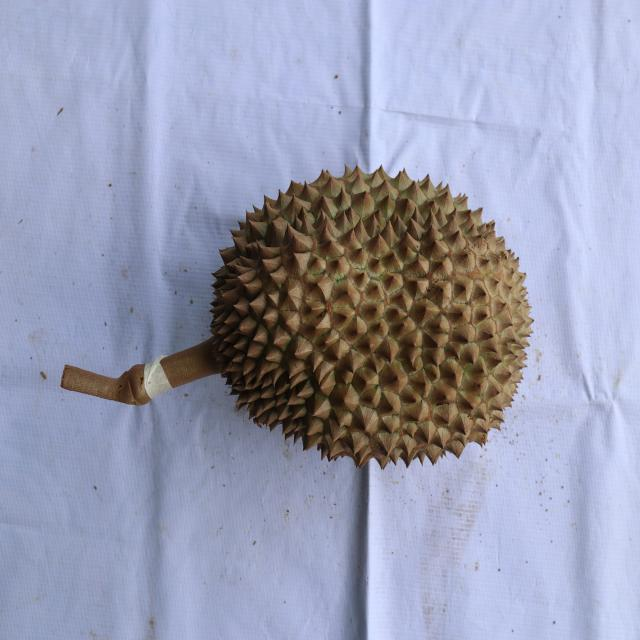mature: (206, 162, 536, 470)
